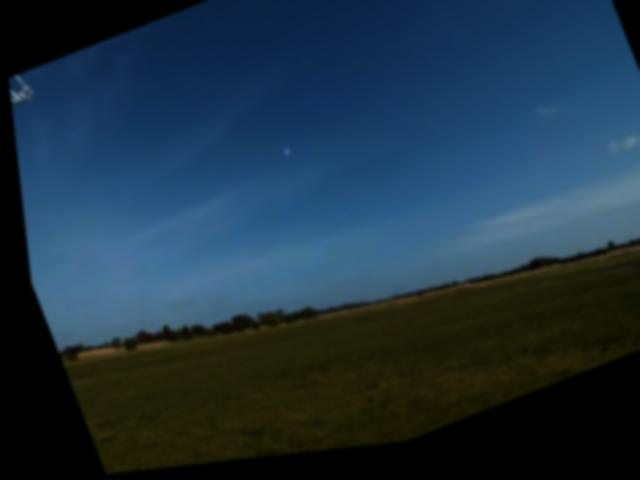uav: (273, 146, 292, 167)
